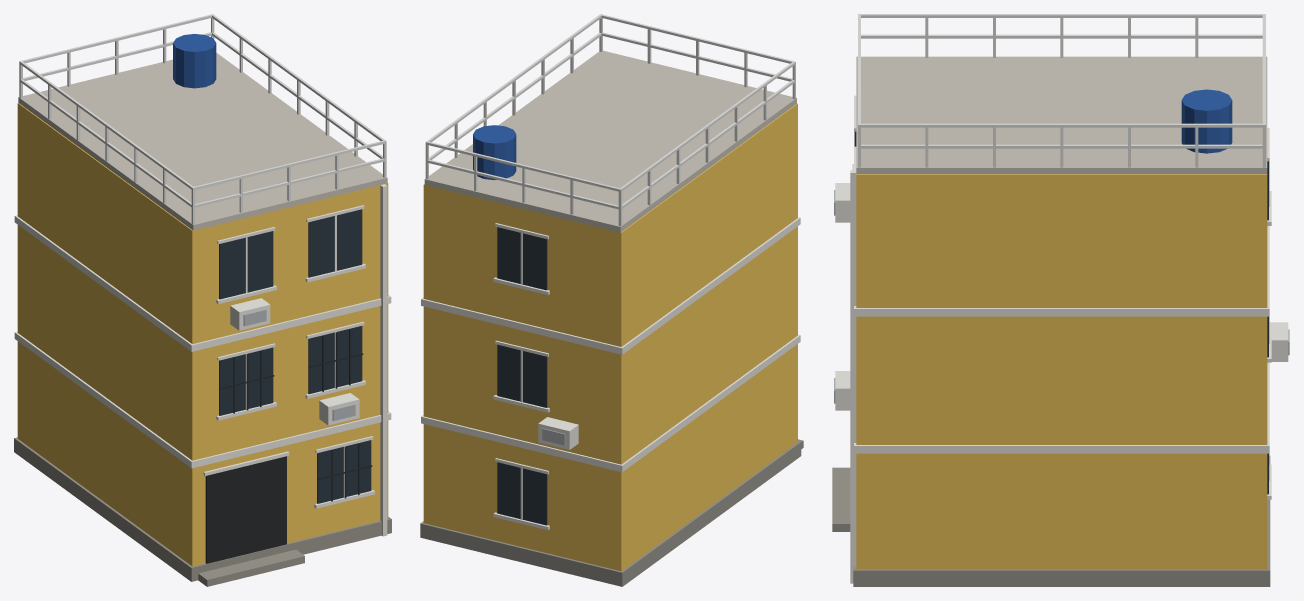
File: BAY_F_ThreeStorey_G.glb
The picture shows the model from 3 angles, left to right: view 1: azimuth 30°, elevation 25°; view 2: azimuth 150°, elevation 25°; view 3: azimuth 270°, elevation 25°; orthographic projection. The views are drawn at different scales.
Visible parts, largest first — view 1: BAY_F_ThreeStorey_G; view 2: BAY_F_ThreeStorey_G; view 3: BAY_F_ThreeStorey_G.
Part boxes in pixels (x1,y1,x2,y2): BAY_F_ThreeStorey_G: [14, 14, 391, 586]; BAY_F_ThreeStorey_G: [420, 14, 803, 586]; BAY_F_ThreeStorey_G: [832, 14, 1289, 586].
Size of the model in its own units: 4.5 by 8.4 by 7.57.
Materials: 1 (1 with a texture image).
